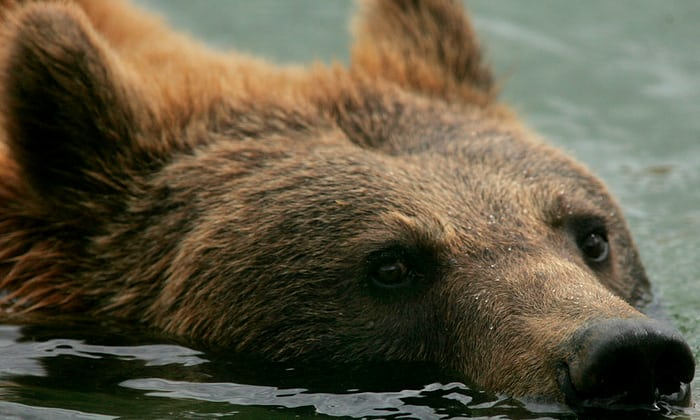bear: (2, 2, 699, 419)
